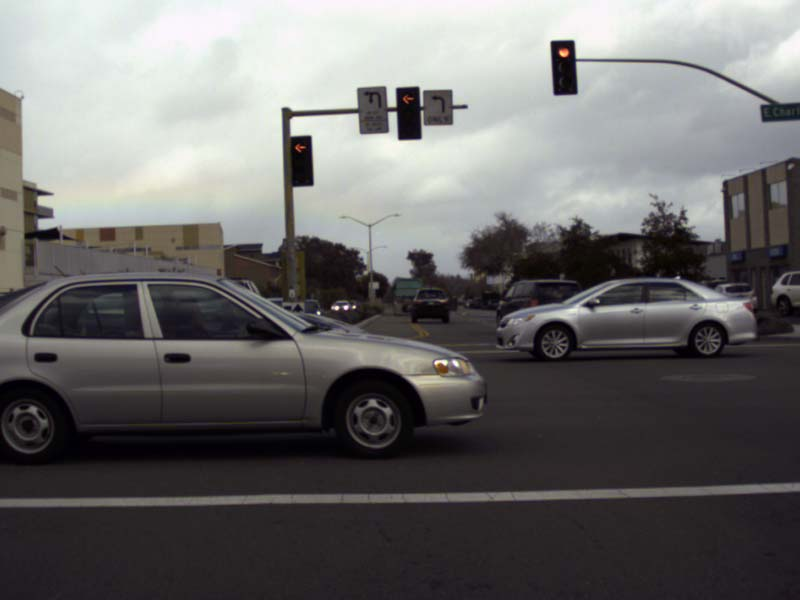Red: (395, 87, 421, 140), (550, 40, 576, 93), (290, 136, 313, 185)
